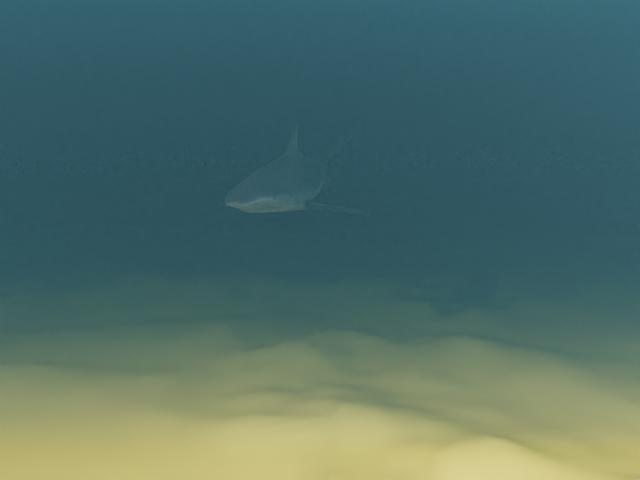Carribean Shark.001: (214, 122, 372, 214)
